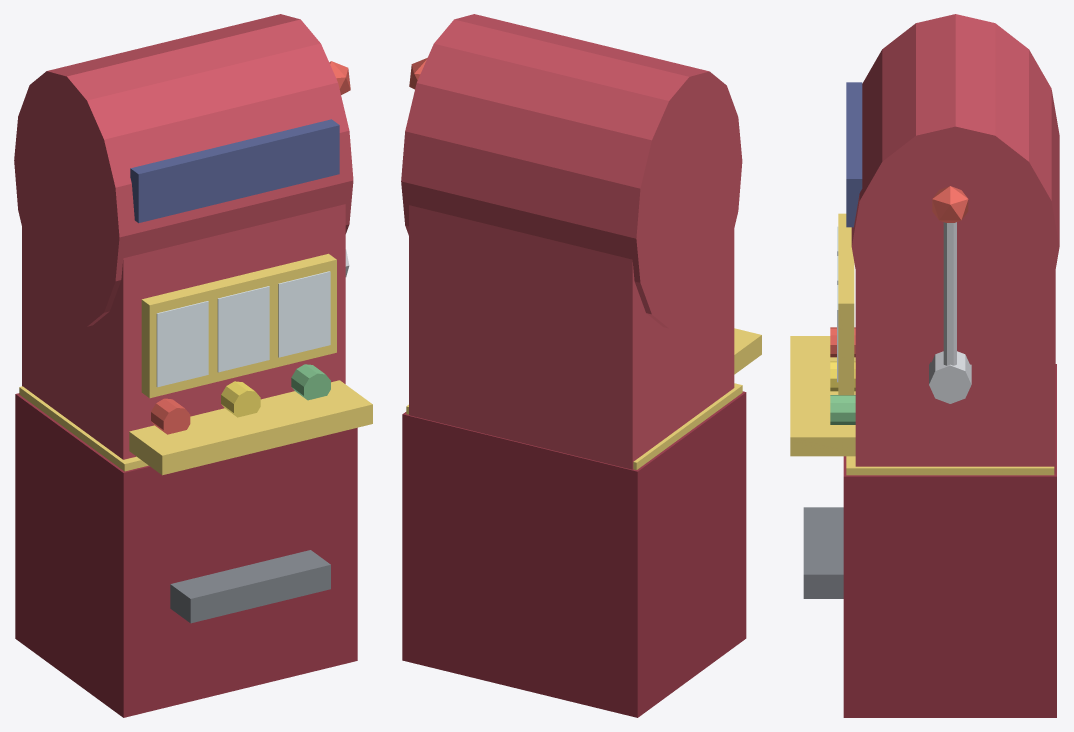
The model's file is SlotMachine.fbx.
3 renders of one model, left to right at view 1: azimuth 30°, elevation 25°; view 2: azimuth 150°, elevation 25°; view 3: azimuth 270°, elevation 25°, orthographic. The views are drawn at different scales.
Parts seen in each view (by area): view 1: Body; view 2: Body; view 3: Body.
Boxes of the visible parts, <box> form: Body: <box>14,14,372,717</box>; Body: <box>401,14,761,717</box>; Body: <box>790,14,1059,717</box>.
Bounding box in the file's own units: 1.19 × 2.45 × 1.01.
